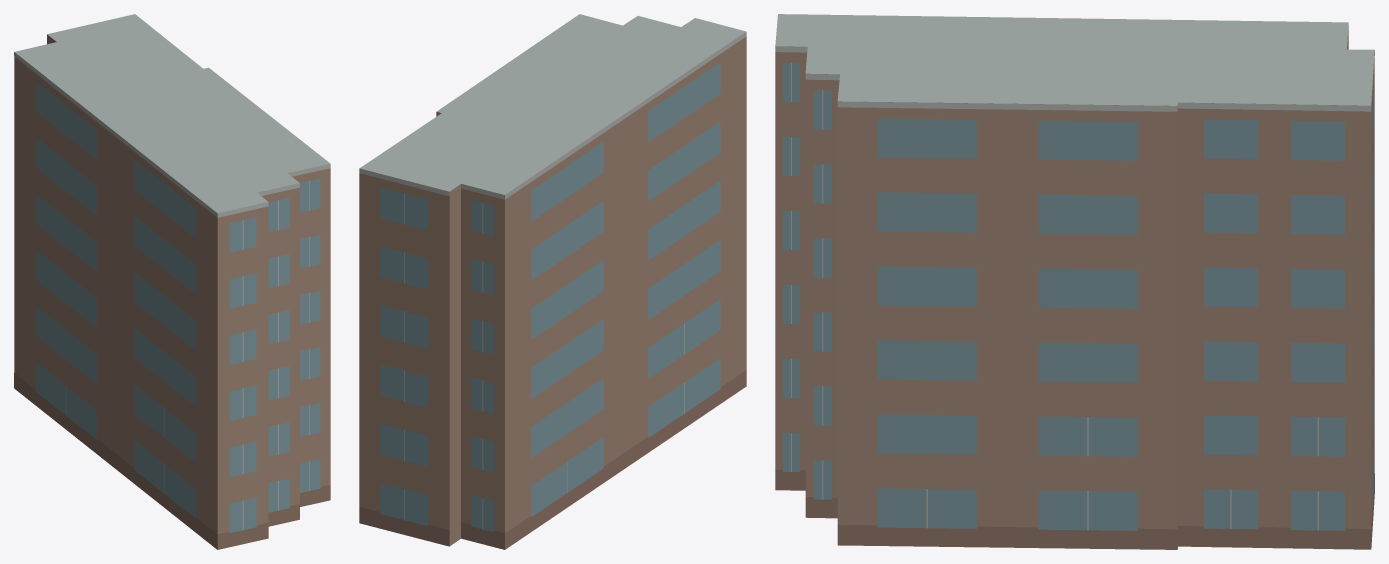
Rendered from survey-upis-32682210.glb.
The picture shows the model from 3 angles, left to right: view 1: azimuth 30°, elevation 25°; view 2: azimuth 150°, elevation 25°; view 3: azimuth 270°, elevation 25°; orthographic projection. The views are drawn at different scales.
Parts seen in each view (by area): view 1: survey-upis-32682210.tmp; view 2: survey-upis-32682210.tmp; view 3: survey-upis-32682210.tmp.
Boxes of the visible parts, <box> form: survey-upis-32682210.tmp: <box>14,14,330,549</box>; survey-upis-32682210.tmp: <box>359,14,746,549</box>; survey-upis-32682210.tmp: <box>775,14,1374,549</box>.
Size of the model in its own units: 8.13 by 18.3 by 22.4.
